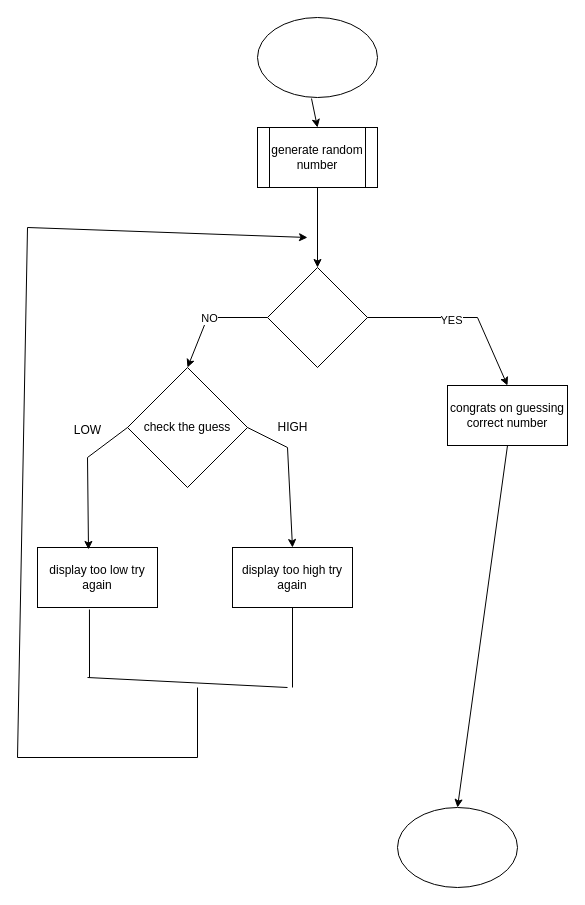
This 585x905 diagram has some shape labels left out. The shapes that lost their labels are listed below. From the top down, each one's centre as x and y in pixels, then its label:
At pixel 317 57: "start".
At pixel 317 317: "player guess number".
At pixel 457 847: "end".
